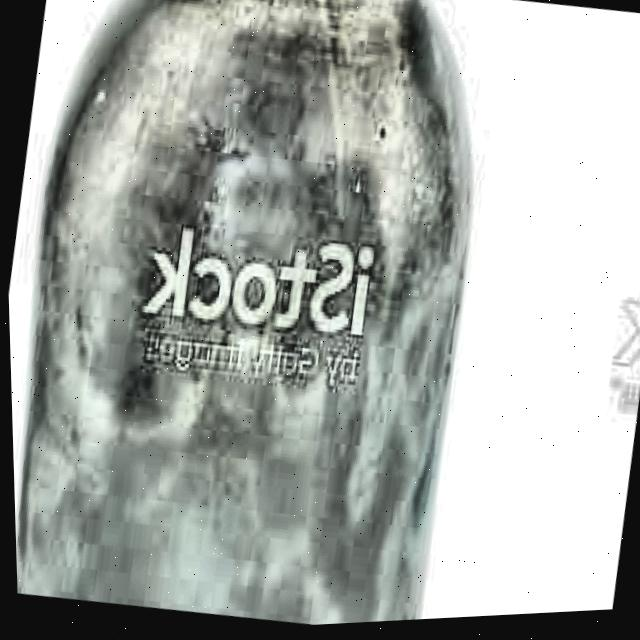glass: (11, 0, 471, 628)
